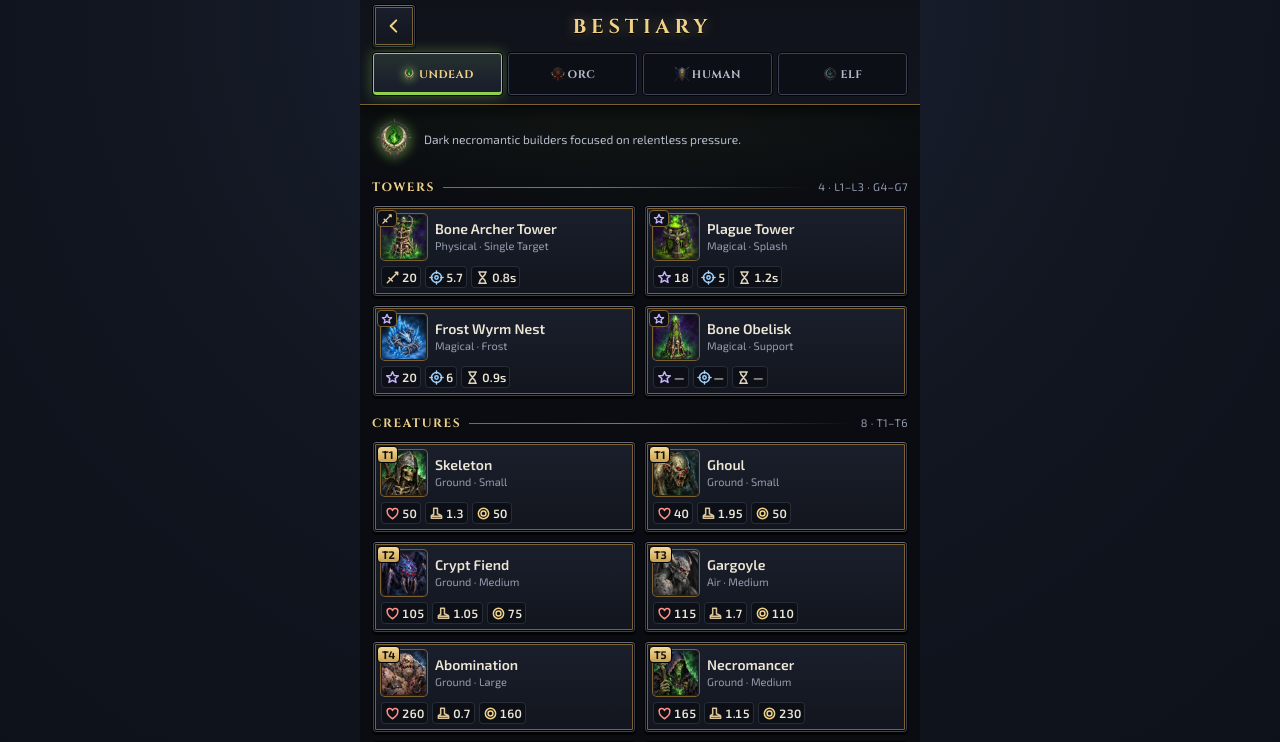
Test: BestiaryPage detail › opens a tower with its base stats, specials and three level columns
Click the button "Frost Wyrm Nest" at {"x": 504, "y": 351}, box [372, 305, 636, 397]
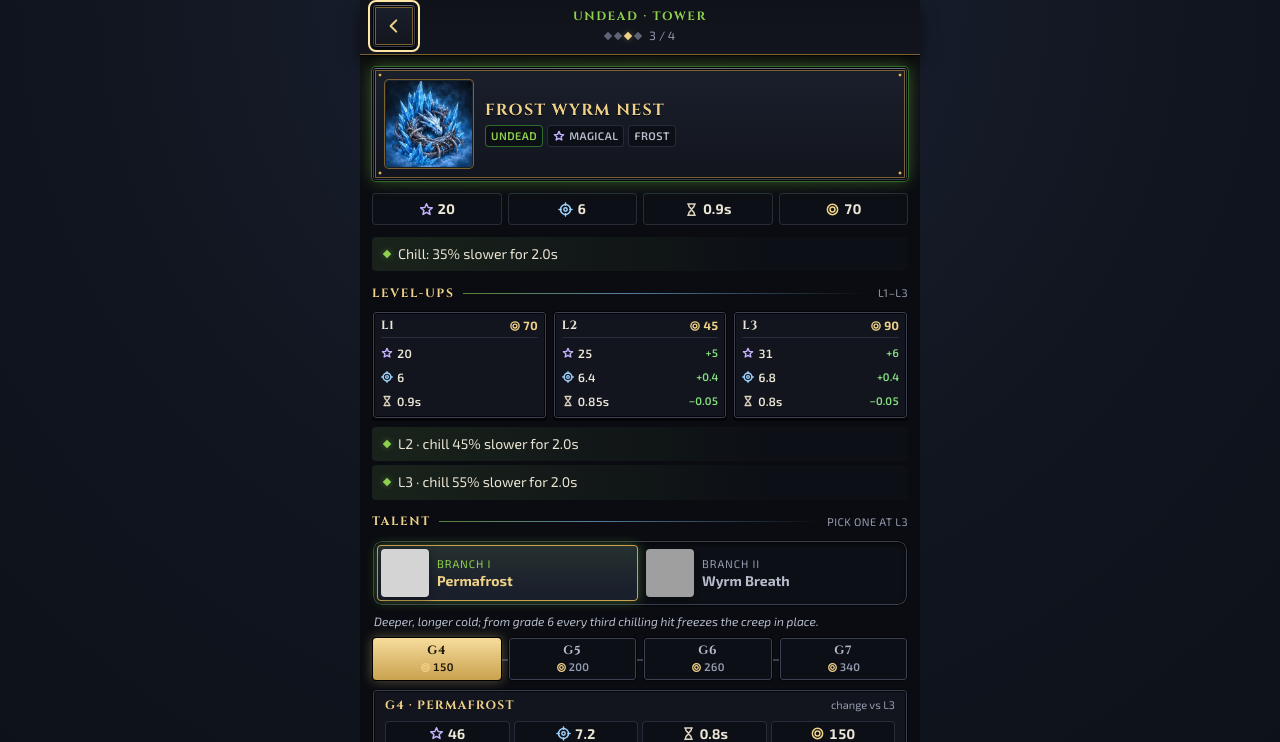
Expected: the heading "Frost Wyrm Nest" is shown, [485, 101, 676, 119]
Expected: the text "Undead · Tower" is shown, [573, 9, 707, 24]
Expected: the text "Chill: 35% slower for 2.0s" is shown, [398, 245, 558, 263]
